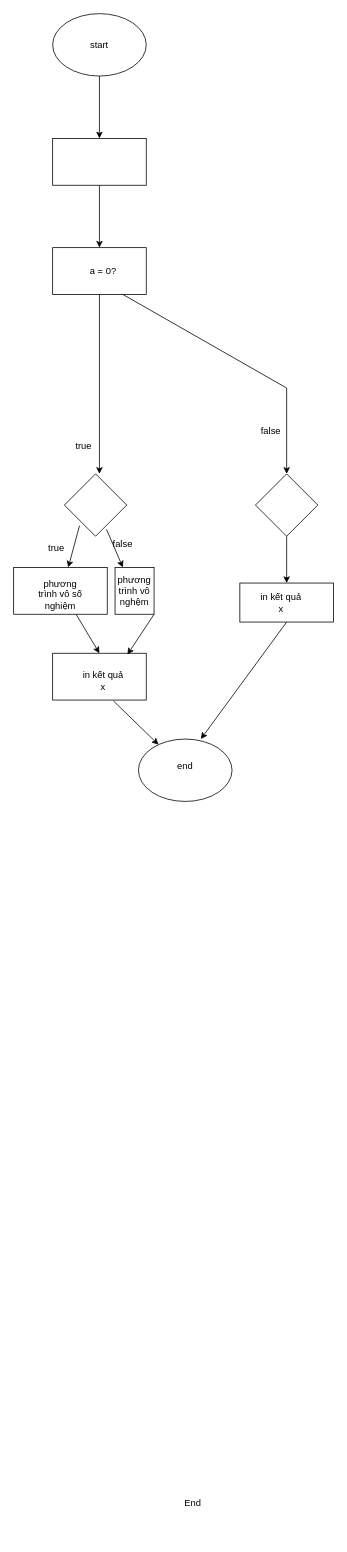
This 347x1552 diagram has some shape labels left out. Here are the shapes that lost their labels. From the top down, the centre of each, then its label:
At (x=99, y=161): "nhập a, b".
At (x=95, y=504): "b = 0?".
At (x=286, y=504): "Tính x = -b / a".
